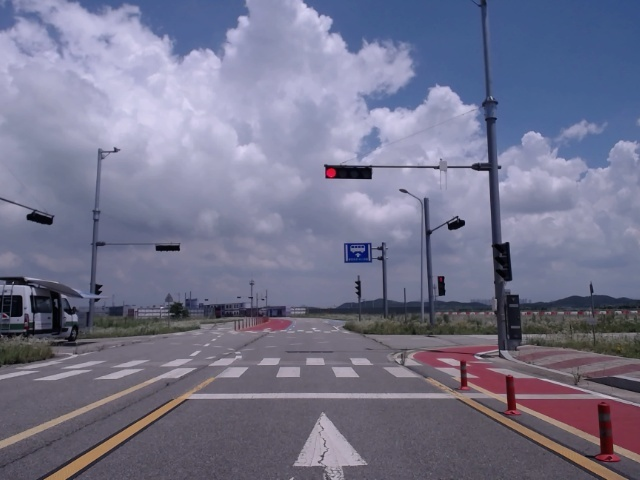red_4: (325, 167, 372, 179)
